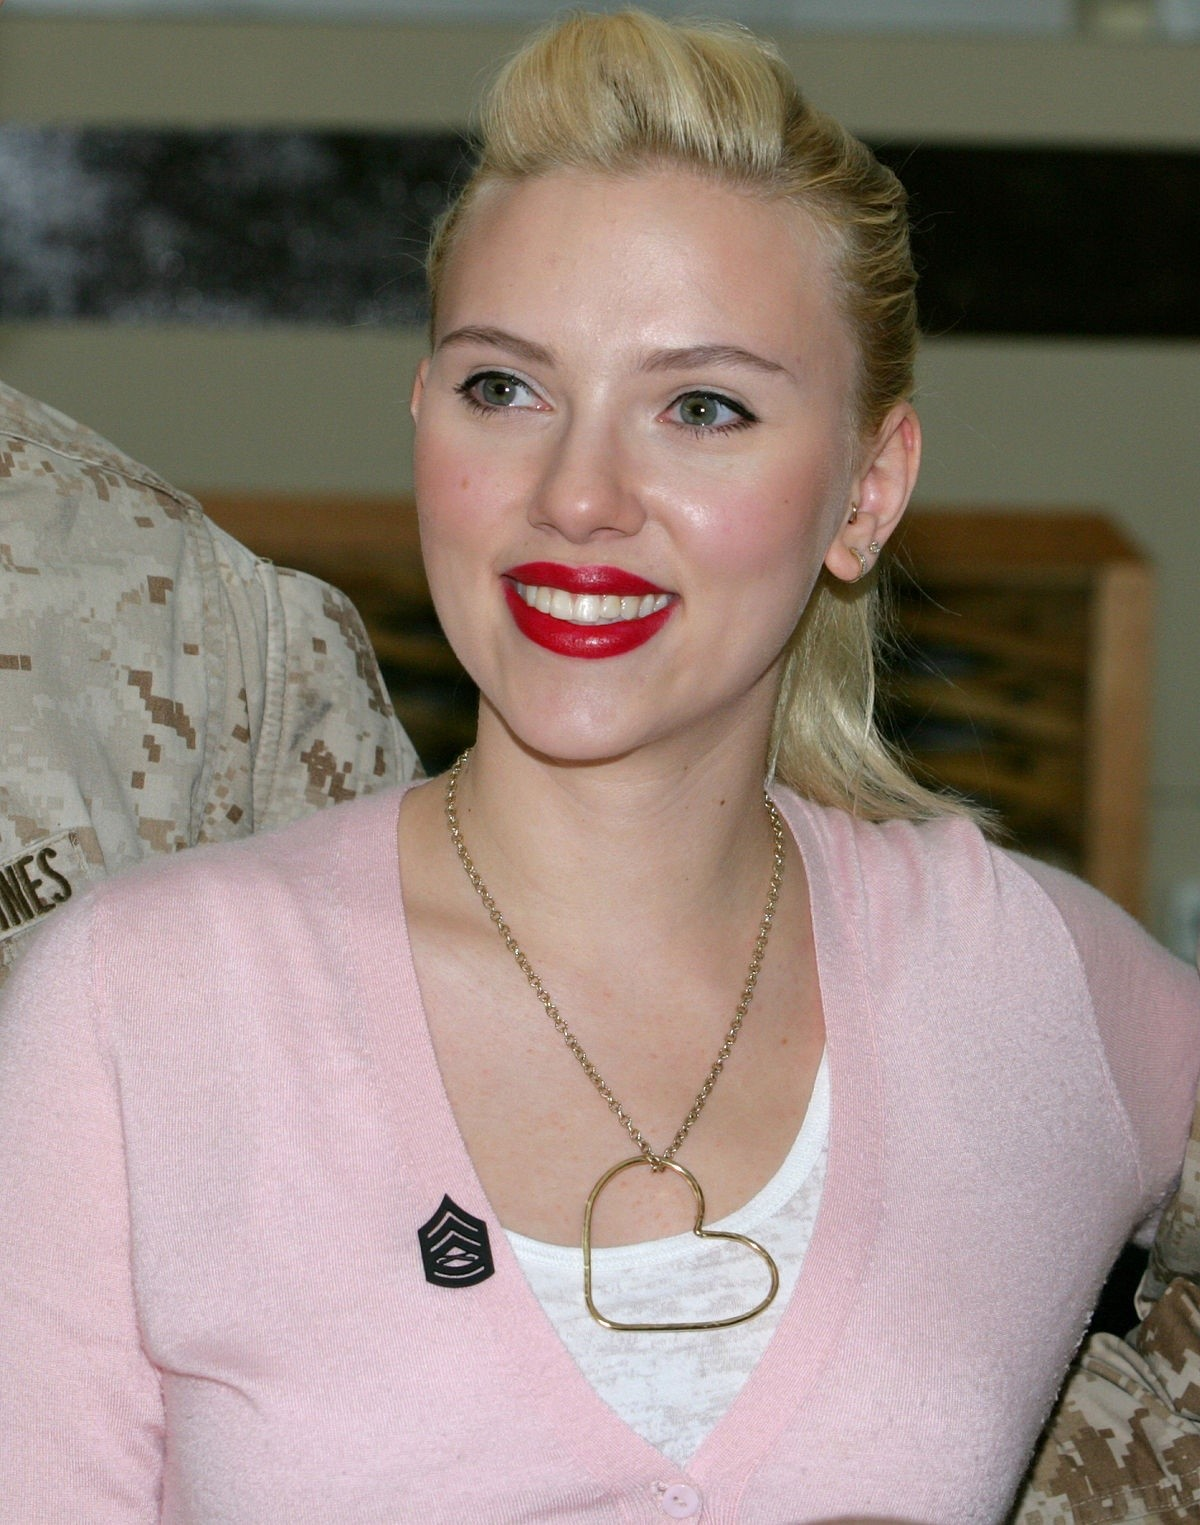face_no_mask: (407, 32, 927, 765)
